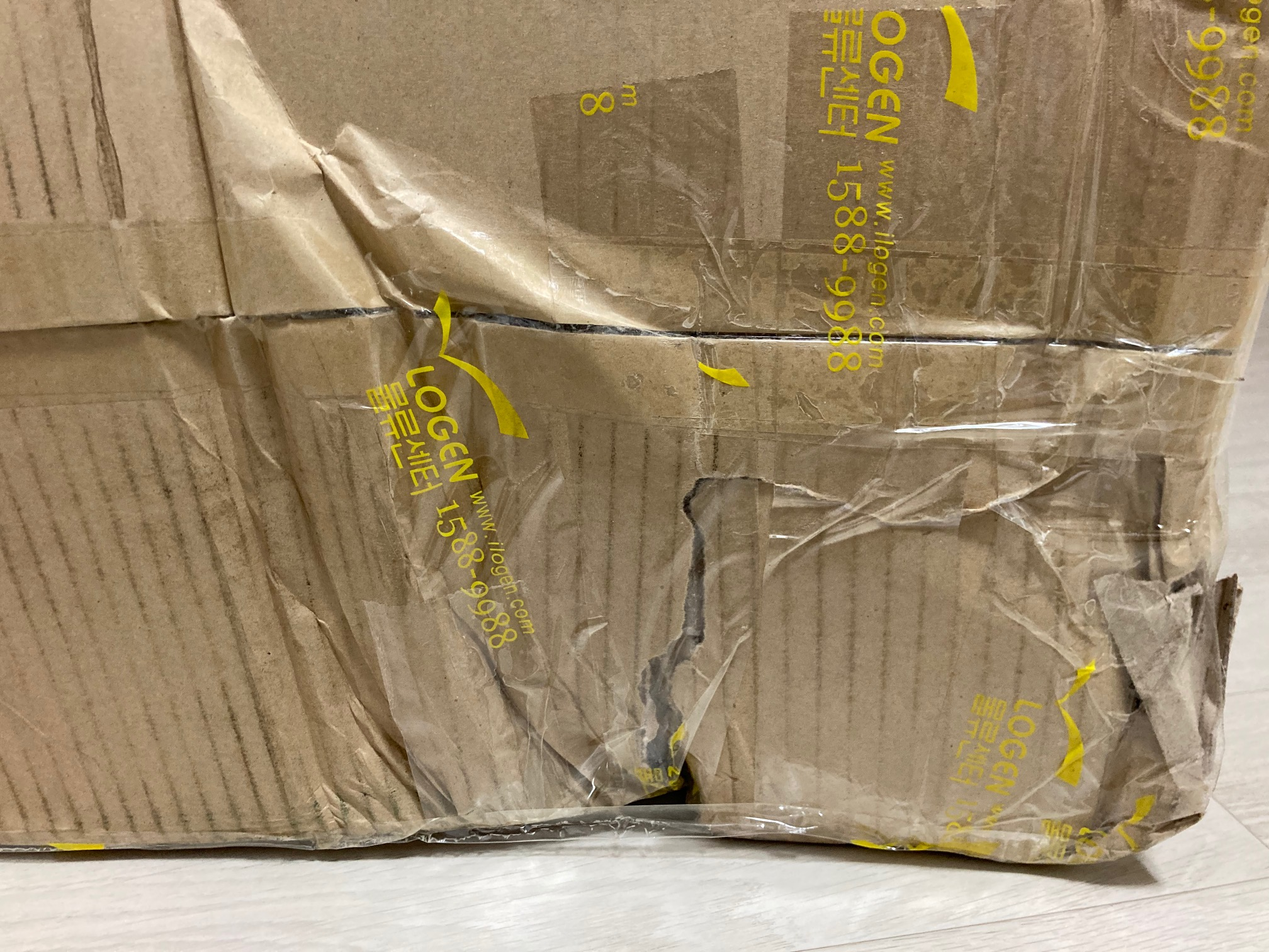damaged package: (954, 452, 1246, 860), (627, 456, 720, 821)
